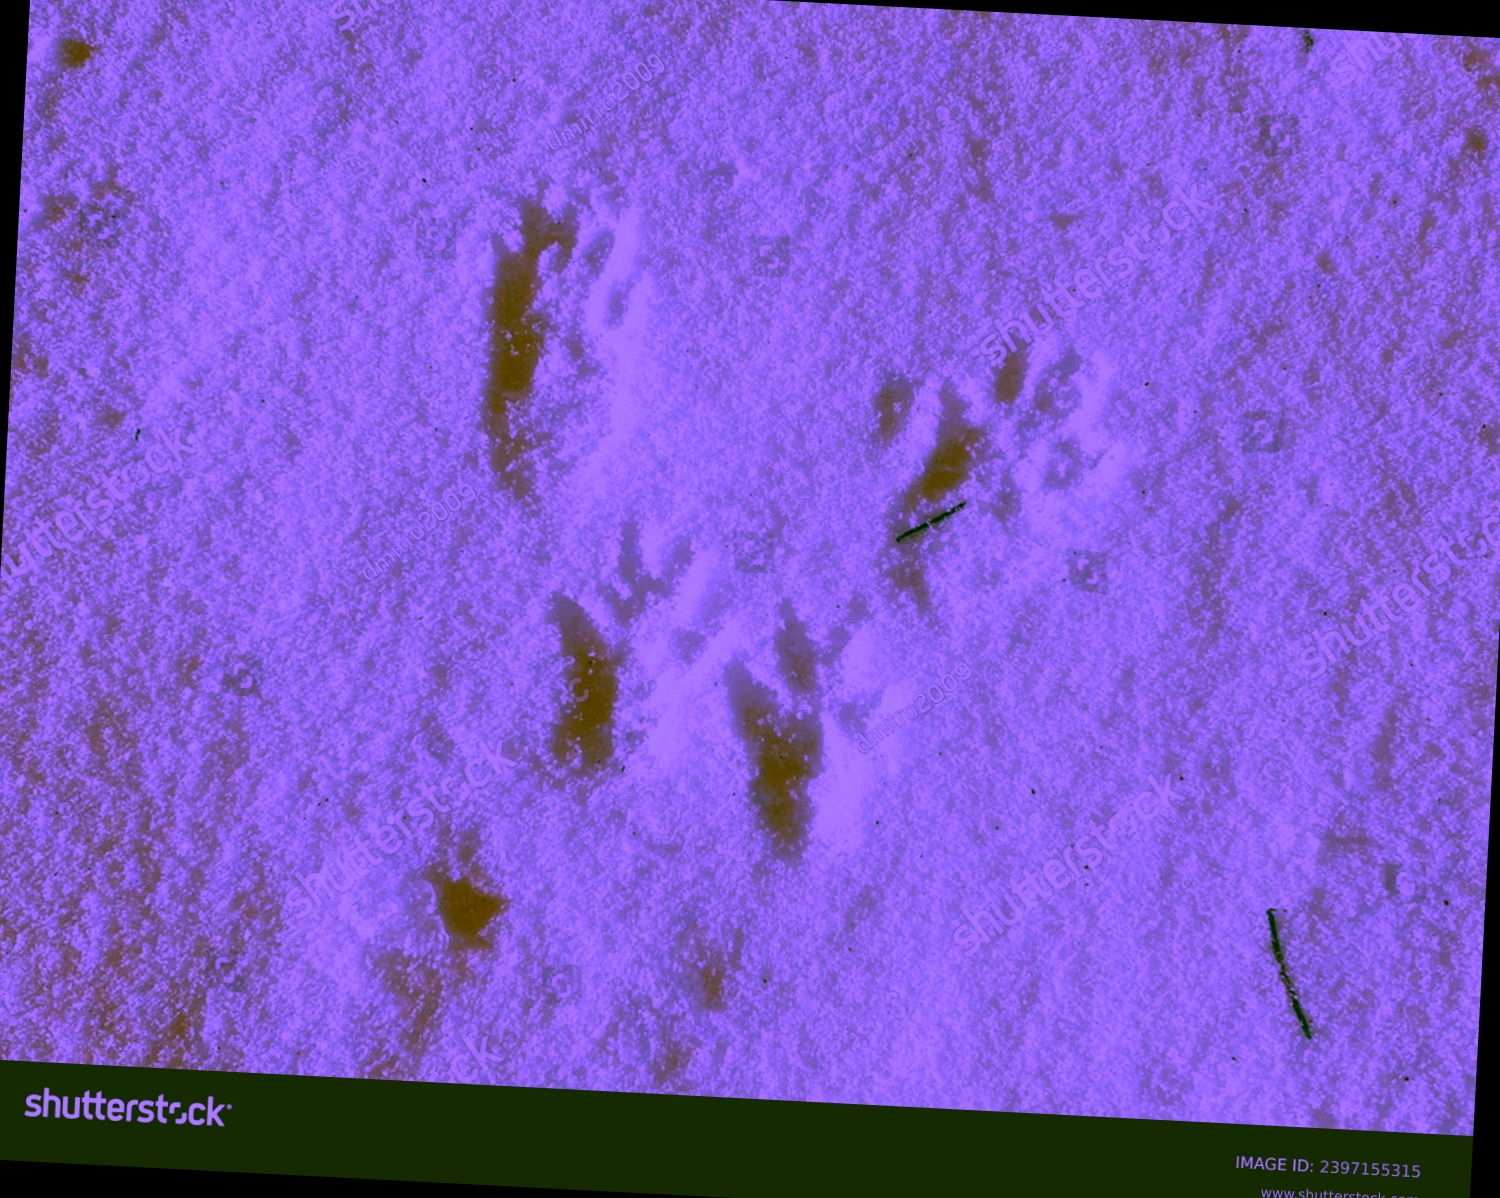ecureuil: (859, 290, 1147, 623), (435, 145, 670, 538), (515, 502, 751, 852), (721, 583, 935, 873)
